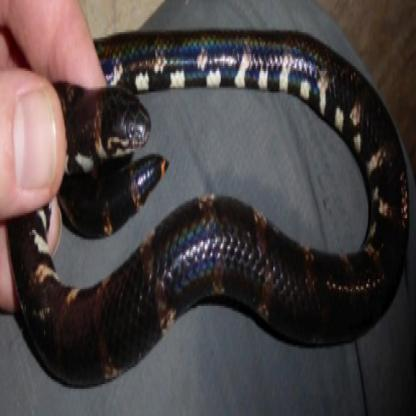snakes: (8, 31, 416, 377)
